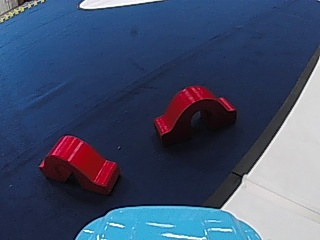bridge: (37, 132, 124, 198), (150, 82, 241, 142)
